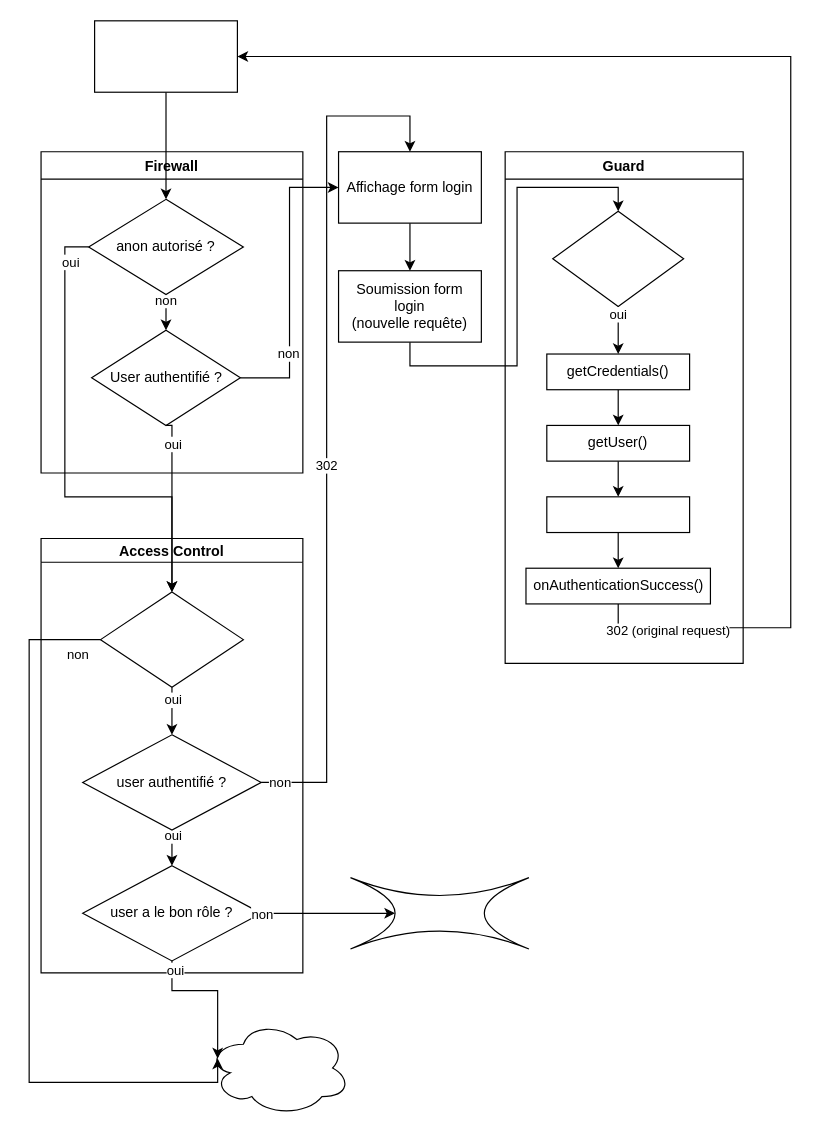
The diagram is 821 pixels wide and 1136 high, and some of its shapes have lost their labels. The centre of each missing label's shape, as x and y in pixels:
403 Forbidden: (x=439, y=912)
checkCredentials(): (x=618, y=514)
Request: (x=165, y=56)
Ressource: (x=278, y=1067)
Role particulier ?: (x=171, y=639)
supports() ?: (x=618, y=258)
